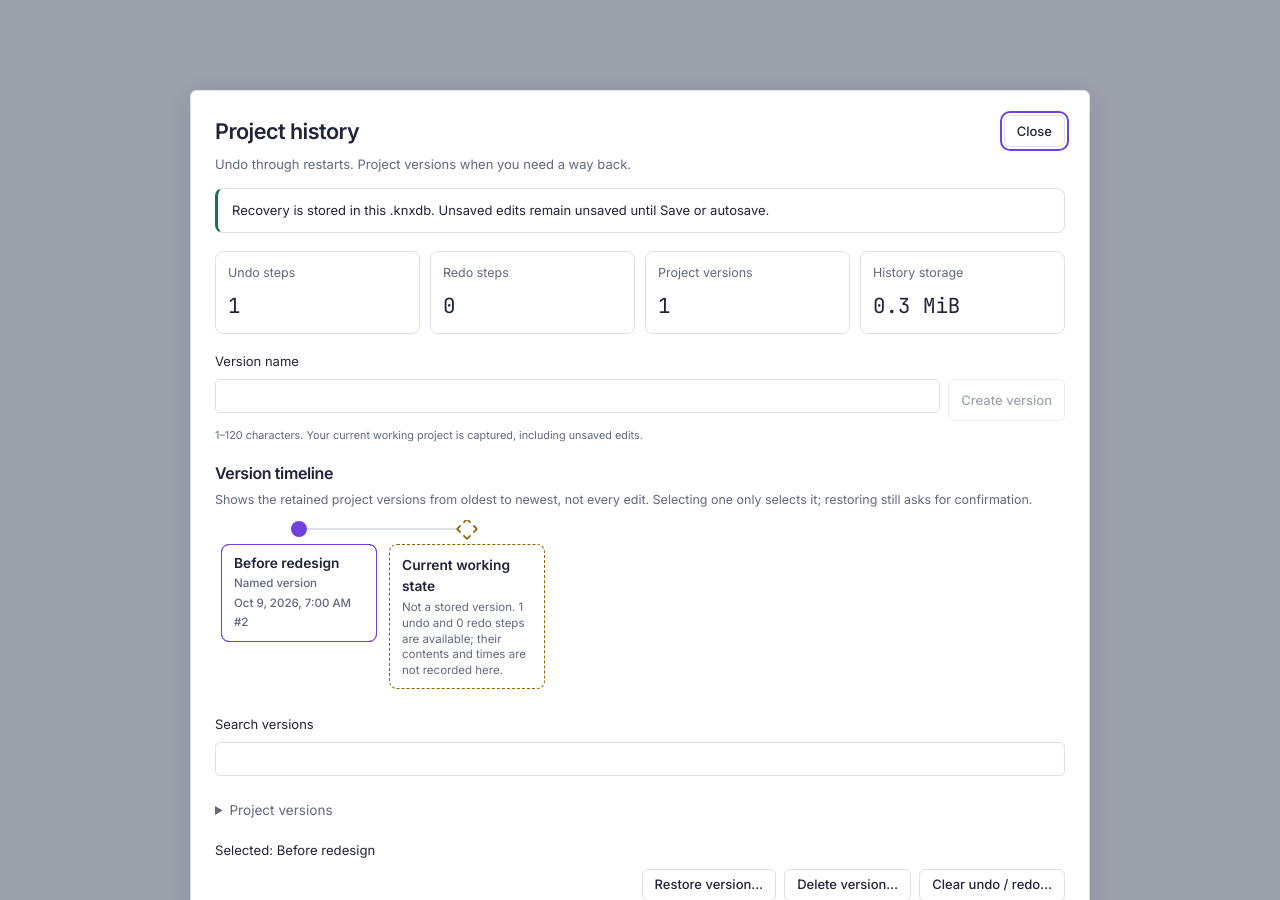
Test: ProjectHistoryDialog › does not publish a pending restore response from a retired server lifetime
What coordinates should you click on to do the following:
click the button "Restore version…"
I would click on:
 (709, 884)
Its box is x1=642 y1=868 x2=776 y2=899.
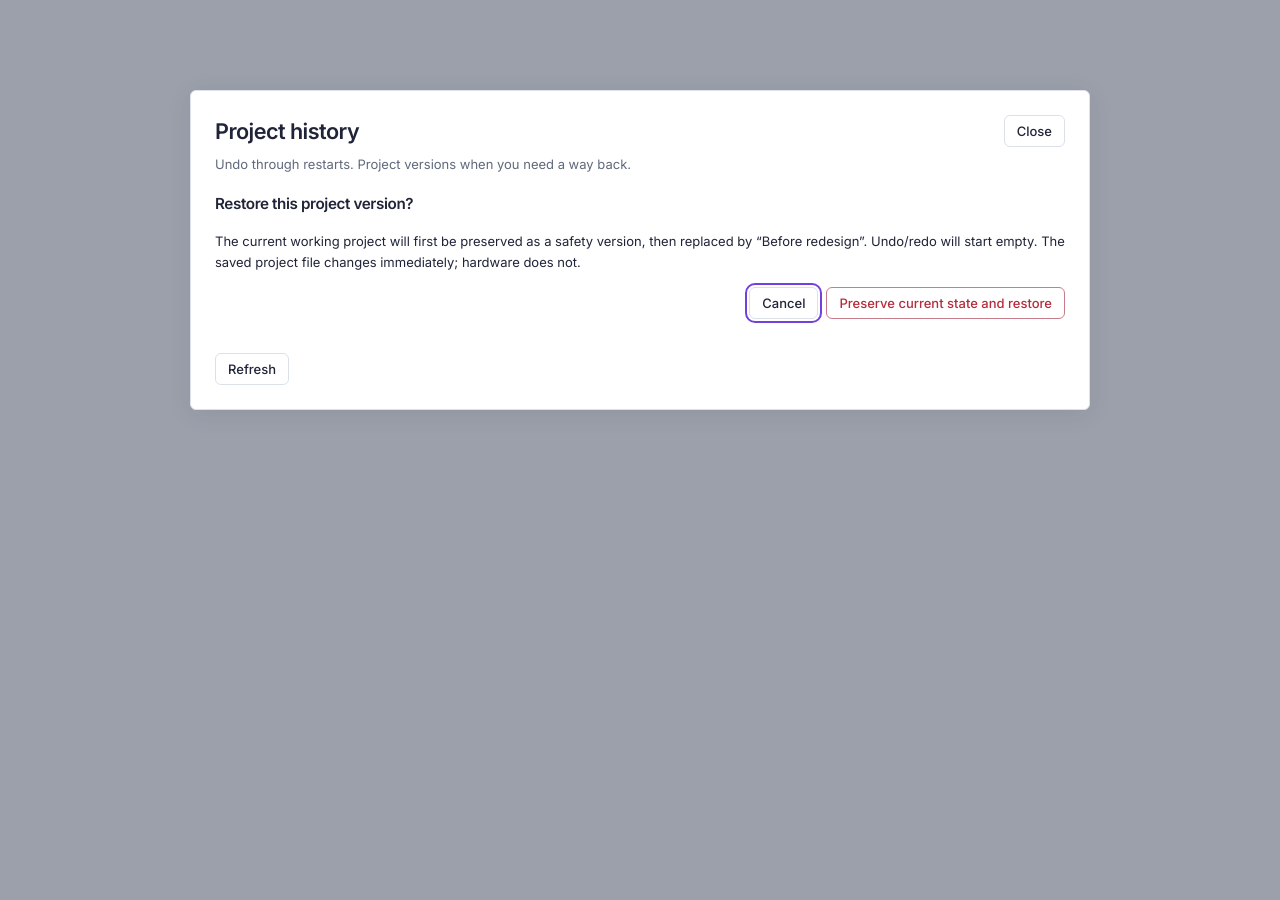
Expected: the button "Preserve current state and restore" is shown
What coordinates should you click on to do the following:
click the button "Preserve current state and restore"
I would click on:
 (946, 303)
Its box is x1=826 y1=287 x2=1065 y2=319.
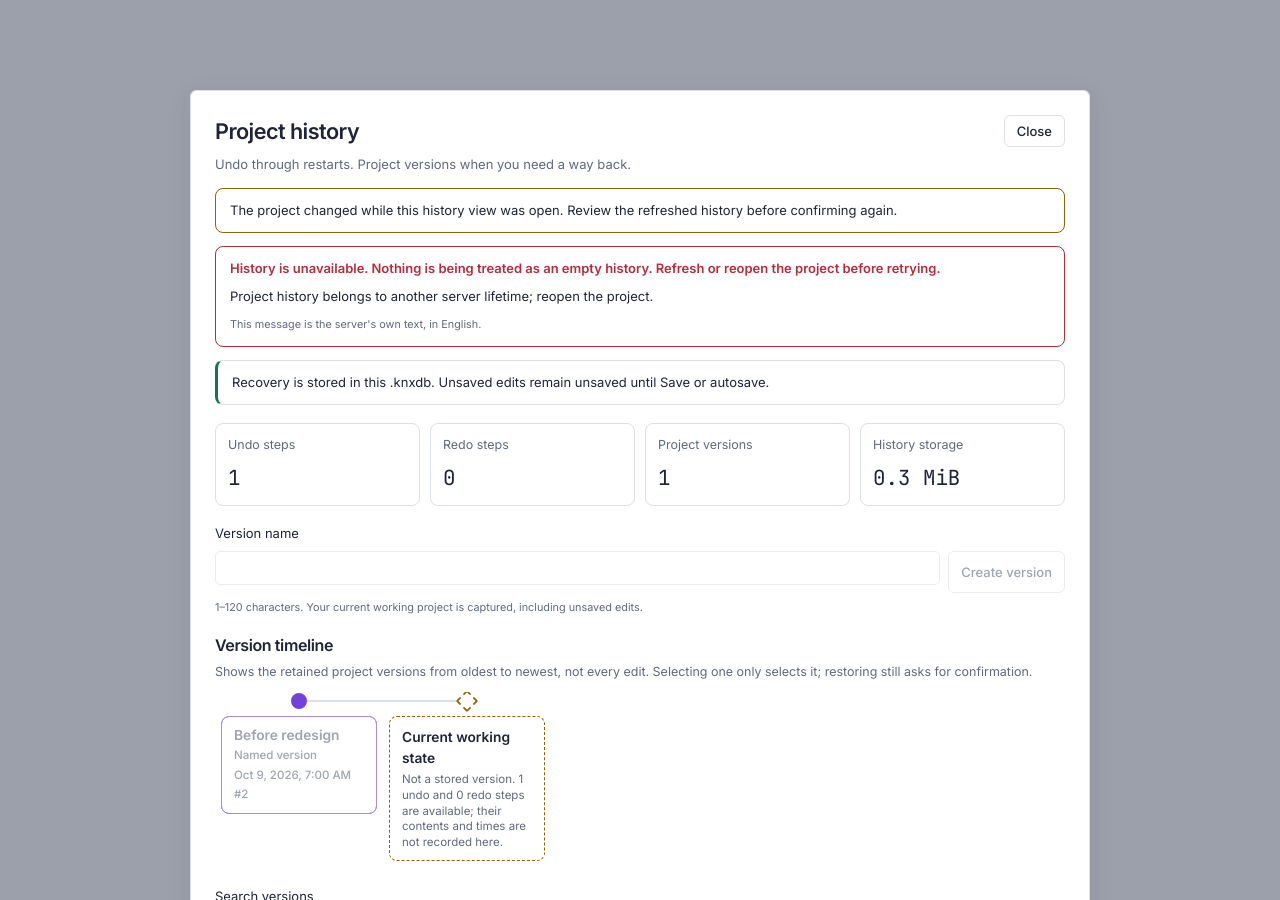
Expected: the 2nd message shows "server lifetime", x1=230 y1=288 x2=653 y2=304
